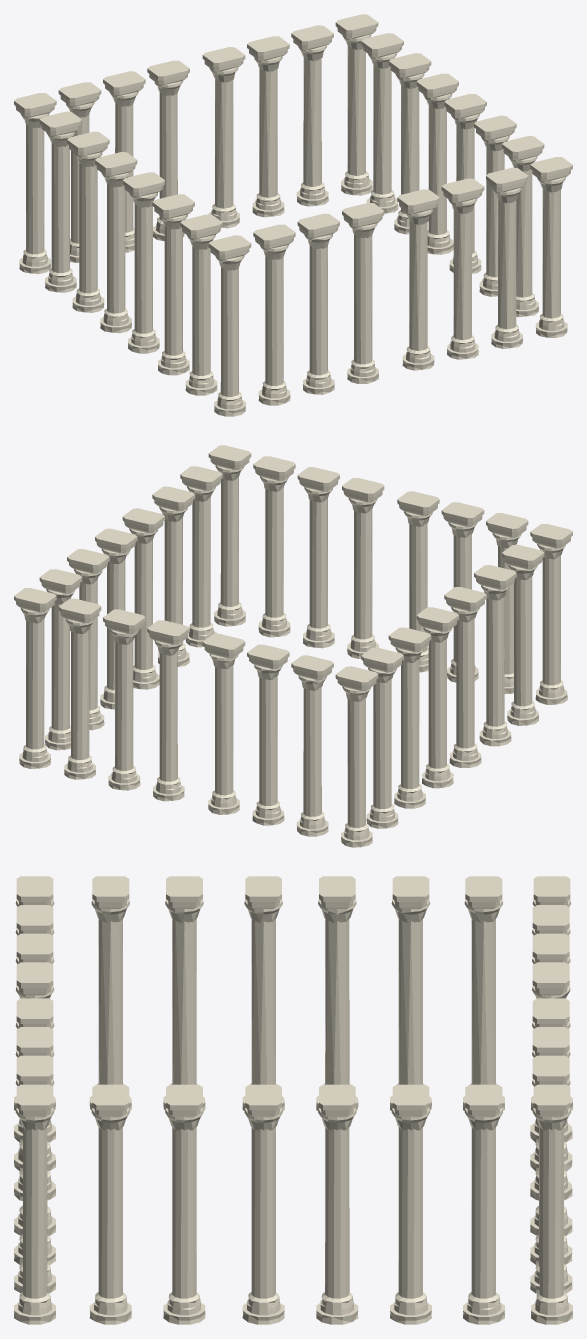
Rendered from Pillar.fbx.
3 renders of one model, top to bottom at view 1: azimuth 30°, elevation 25°; view 2: azimuth 150°, elevation 25°; view 3: azimuth 270°, elevation 25°, orthographic. The views are drawn at different scales.
Visible parts, largest first — view 1: Pillar2; view 2: Pillar2; view 3: Pillar2.
Boxes of the visible parts, left/top/right/bottom form: Pillar2: left=14, top=14, right=572, bottom=416; Pillar2: left=14, top=445, right=572, bottom=847; Pillar2: left=14, top=876, right=572, bottom=1324.
Bounding box in the file's own units: 1388 × 625 × 1432.
